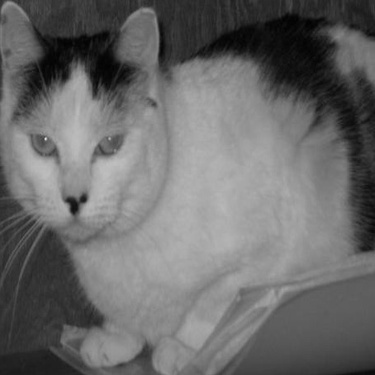cat: (6, 1, 365, 359)
